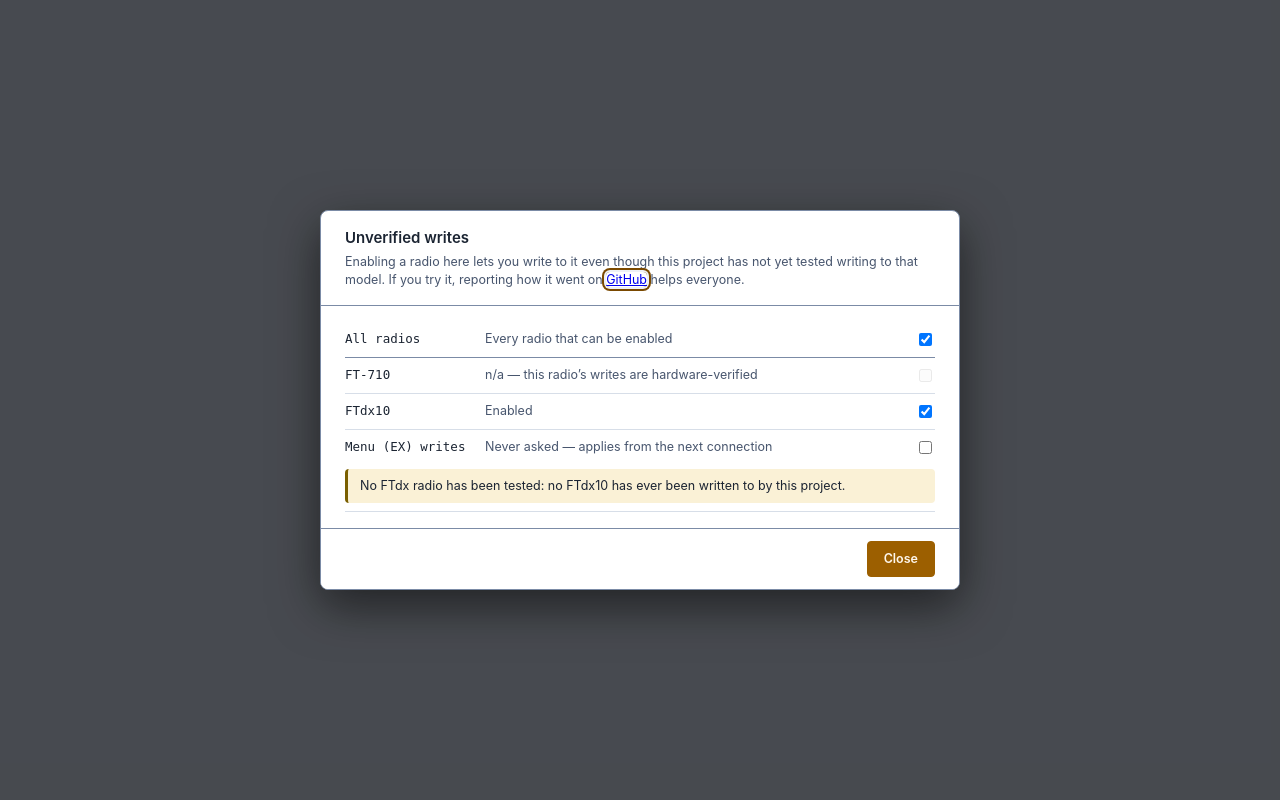
Test: menu (EX) write line (manage mode) › a refusal shows inline and puts the box back
Click the checkbox named "Menu (EX) writes for FTdx10" at (926, 447), box [919,441,932,454]
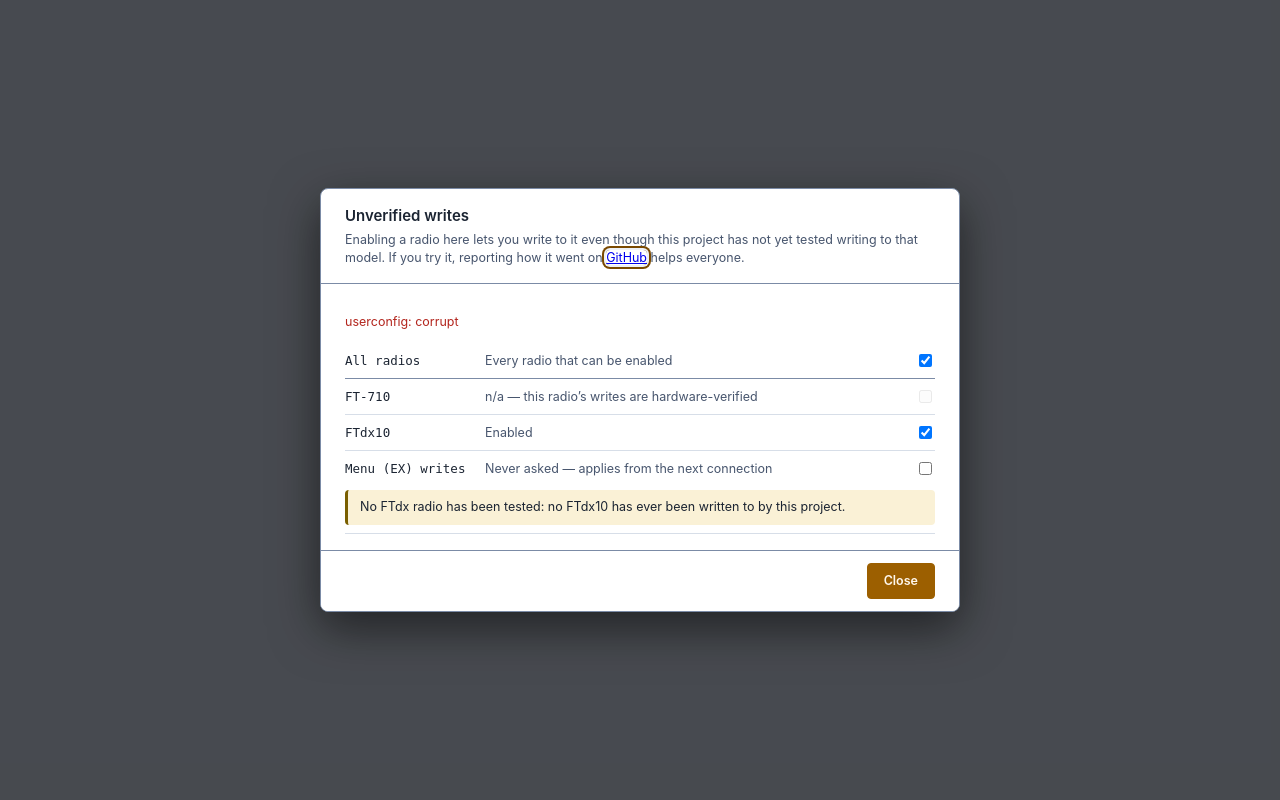
Expected: the checkbox named "Menu (EX) writes for FTdx10" is not checked, [919,462,932,475]
Now the text "userconfig: corrupt" is shown, box [345,314,459,329]
